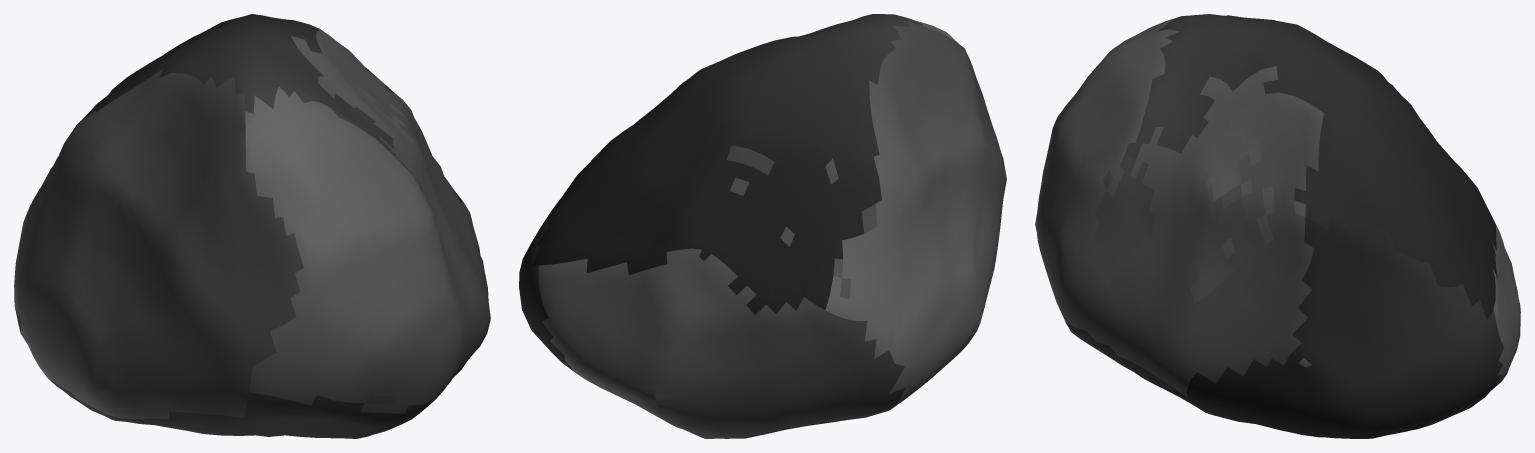
File: Roca.fbx
3 renders of one model, left to right at view 1: azimuth 30°, elevation 25°; view 2: azimuth 150°, elevation 25°; view 3: azimuth 270°, elevation 25°, orthographic. The views are drawn at different scales.
Visible parts, largest first — view 1: rock.002; view 2: rock.002; view 3: rock.002.
Boxes of the visible parts, left/top/right/bottom form: rock.002: left=14, top=14, right=490, bottom=438; rock.002: left=519, top=14, right=1006, bottom=438; rock.002: left=1035, top=14, right=1520, bottom=438.
Bounding box in the file's own units: 708 × 606 × 773.
1 material, 1 textured.
